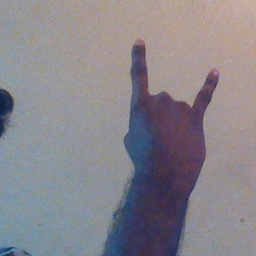V: (118, 37, 227, 182)
